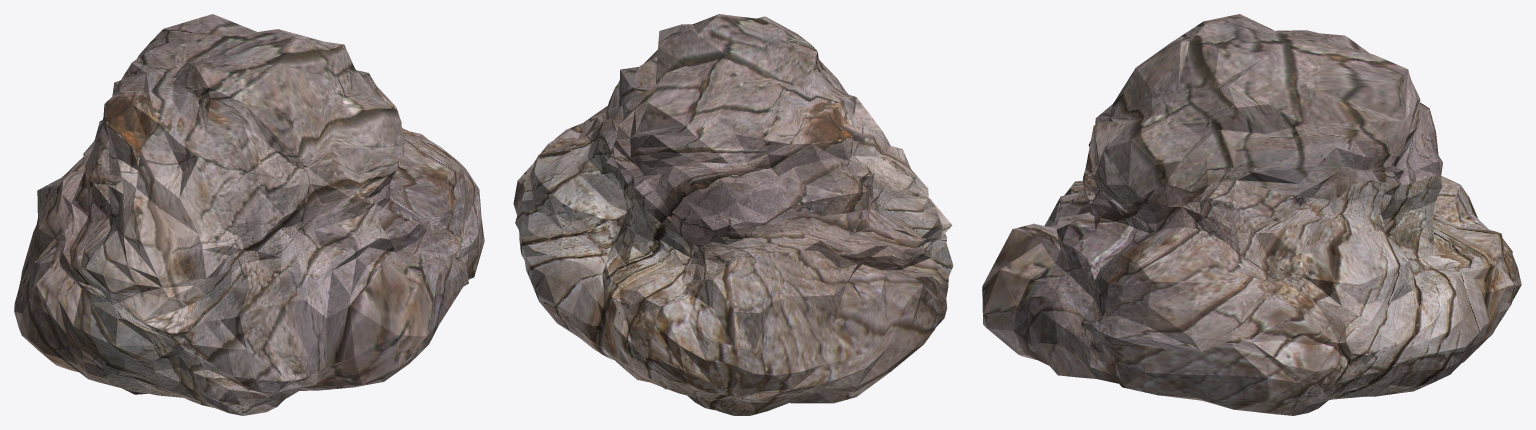
The model's file is stone.obj.
3 renders of one model, left to right at view 1: azimuth 30°, elevation 25°; view 2: azimuth 150°, elevation 25°; view 3: azimuth 270°, elevation 25°, orthographic. The views are drawn at different scales.
Parts seen in each view (by area): view 1: sphere; view 2: sphere; view 3: sphere.
Boxes of the visible parts, bbox=[...] form: sphere: bbox=[14, 14, 484, 415]; sphere: bbox=[513, 14, 953, 415]; sphere: bbox=[982, 14, 1521, 415].
Bounding box in the file's own units: 2.47 × 1.84 × 2.5.
Materials: 1 (1 with a texture image).
